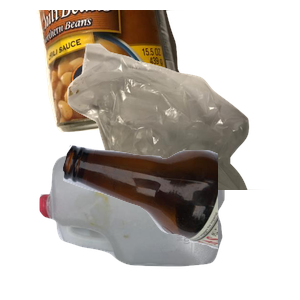glass: (60, 142, 300, 300)
metal: (34, 10, 213, 135)
plastic: (37, 147, 254, 300)
trash: (65, 41, 300, 221)
